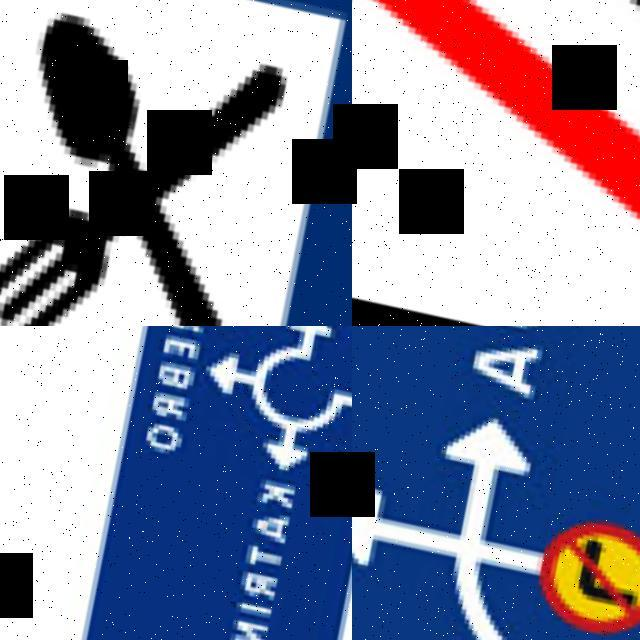83: (52, 326, 352, 640)
85: (352, 326, 640, 640)
Restaurant: (0, 0, 352, 326)
School: (352, 0, 640, 326)
